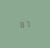eight: (19, 20, 24, 28)
seven: (25, 19, 30, 27)
